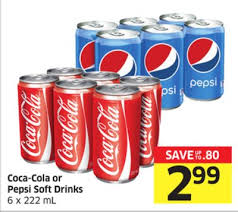can: (92, 84, 136, 184), (145, 25, 192, 112), (182, 13, 226, 105), (13, 70, 54, 164), (50, 79, 89, 174)
